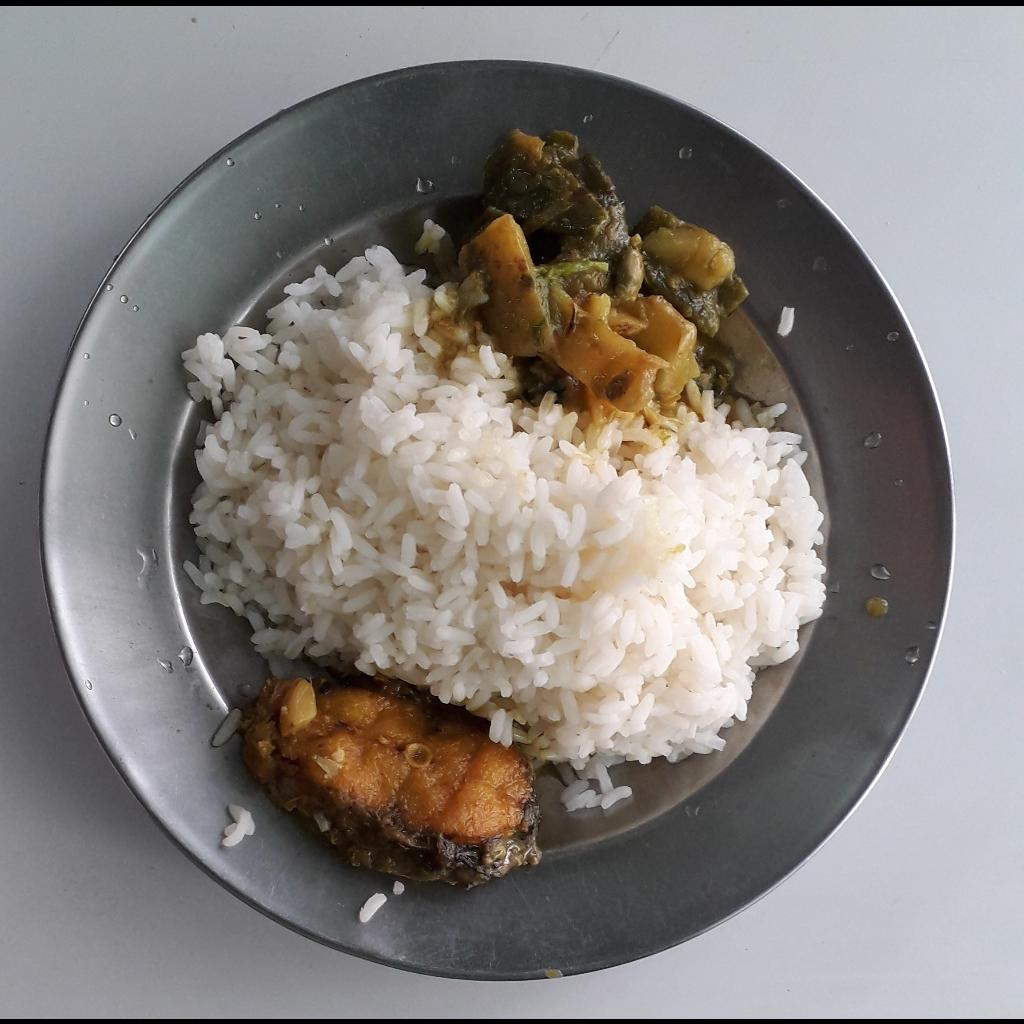dundol: (547, 280, 691, 413)
fish: (243, 670, 542, 883)
rice: (173, 242, 828, 814)
shim: (415, 114, 750, 391)
